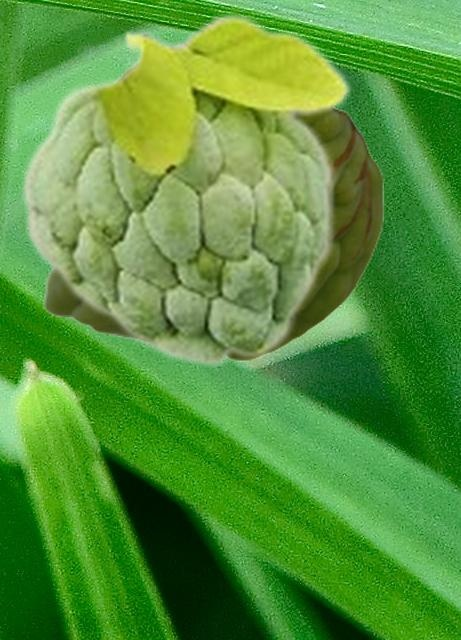atis: (18, 11, 352, 368), (43, 40, 382, 360)
